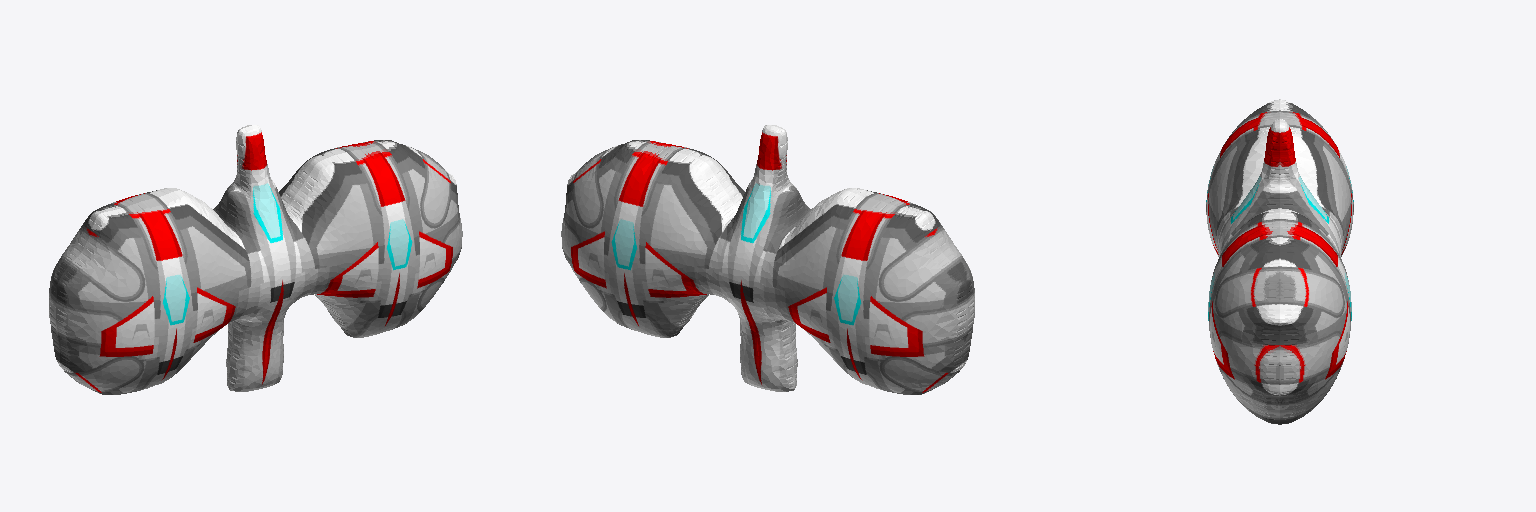
The picture shows the model from 3 angles: view 1: azimuth 30°, elevation 25°; view 2: azimuth 150°, elevation 25°; view 3: azimuth 270°, elevation 25°; orthographic projection.
Visible parts, largest first — view 1: mm_frame_(1); view 2: mm_frame_(1); view 3: mm_frame_(1).
Part boxes in pixels (x1,y1,x2,y2): mm_frame_(1): (49, 125, 462, 394); mm_frame_(1): (561, 125, 974, 394); mm_frame_(1): (1206, 99, 1353, 424).
Size of the model in its own units: 7.7 by 4.84 by 2.46.
1 materials, 1 textured.